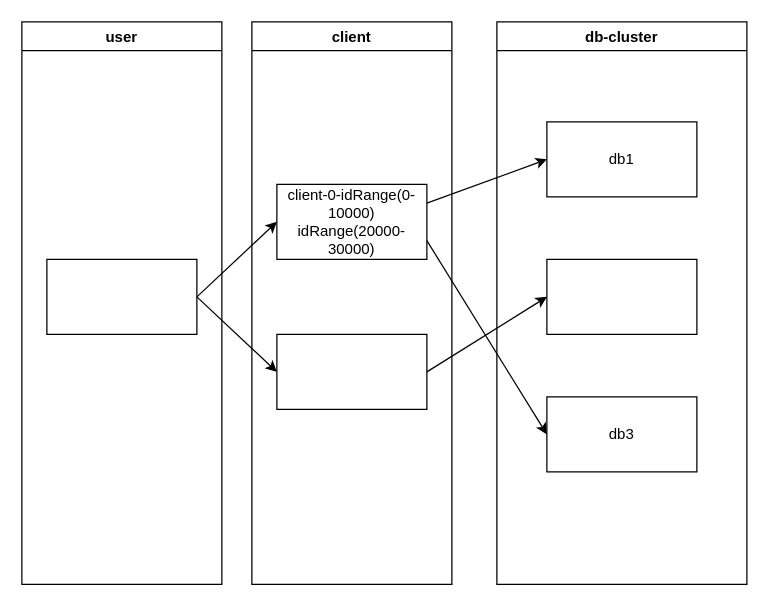
The diagram is 769 pixels wide and 606 high, and some of its shapes have lost their labels. Each missing label, with the centre of its shape:
"client-n-idRange(10000-20000)" belongs at (x=351, y=371).
"db2" belongs at (x=621, y=296).
"insert data" belongs at (x=121, y=296).
